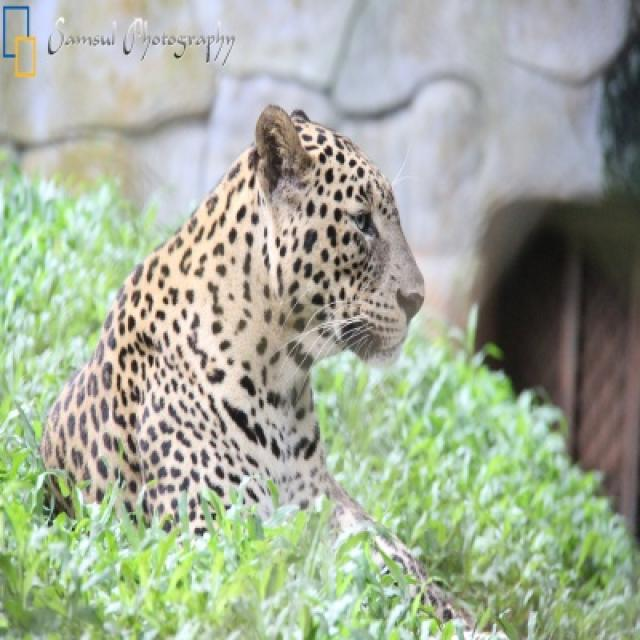Cheetah: (37, 106, 426, 542)
